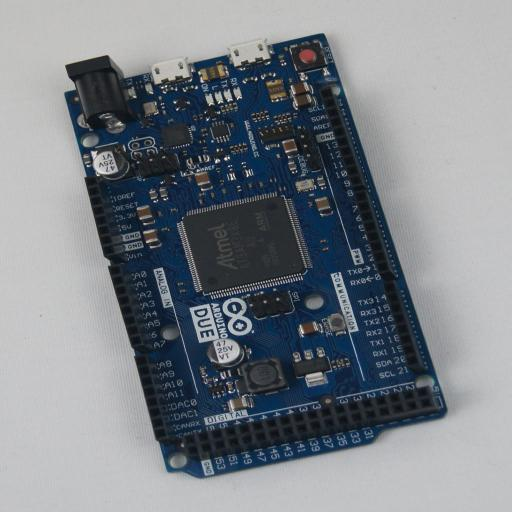Arduino Due: (64, 33, 448, 479)
